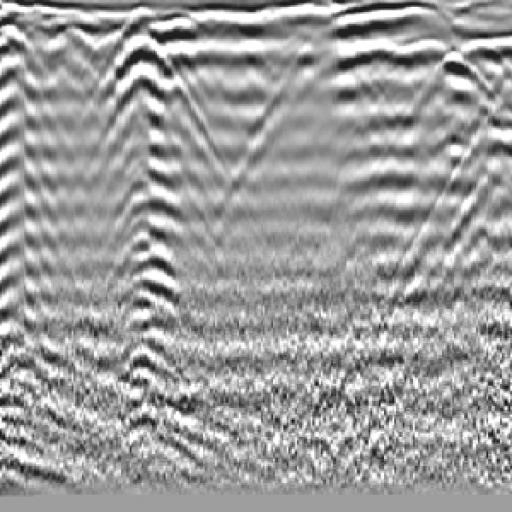non-metallic: (62, 17, 228, 350), (377, 36, 512, 285), (1, 35, 54, 346)
